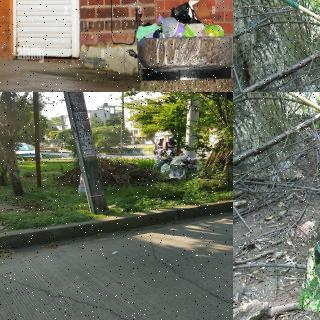Garbage: (172, 155, 200, 171), (169, 164, 187, 179), (160, 163, 171, 173)
